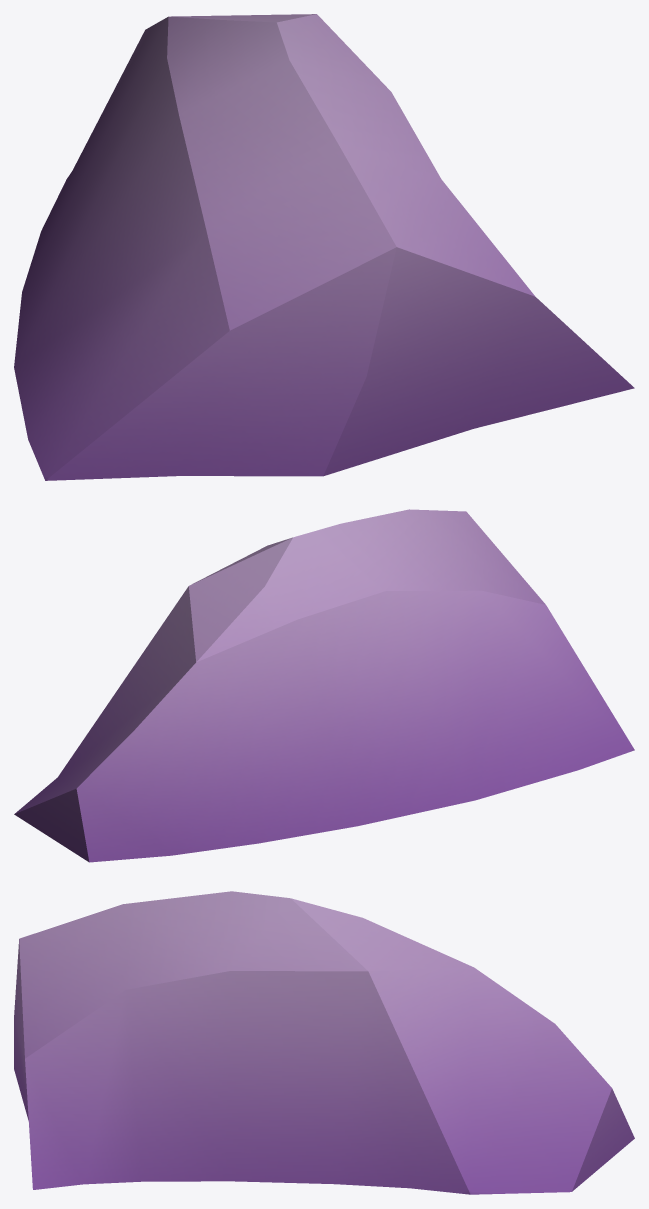
The model's file is Night_Stone_004.FBX.
The picture shows the model from 3 angles, top to bottom: view 1: azimuth 30°, elevation 25°; view 2: azimuth 150°, elevation 25°; view 3: azimuth 270°, elevation 25°; orthographic projection. The views are drawn at different scales.
Visible parts, largest first — view 1: Night_Stone_004; view 2: Night_Stone_004; view 3: Night_Stone_004.
Boxes of the visible parts, x1=… form: Night_Stone_004: x1=14, y1=14, x2=634, y2=480; Night_Stone_004: x1=14, y1=509, x2=634, y2=862; Night_Stone_004: x1=14, y1=891, x2=634, y2=1194.
Bounding box in the file's own units: 167 × 83.94 × 214.
1 material, 1 textured.
